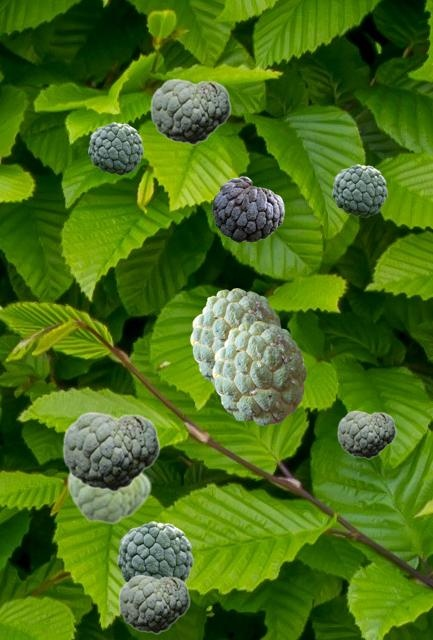atis: (212, 321, 305, 424), (190, 288, 281, 386), (62, 411, 159, 491), (150, 78, 230, 144), (212, 176, 283, 241), (117, 521, 192, 581), (66, 471, 150, 524), (118, 574, 189, 633), (88, 122, 142, 174), (332, 164, 386, 216), (337, 410, 395, 458)
